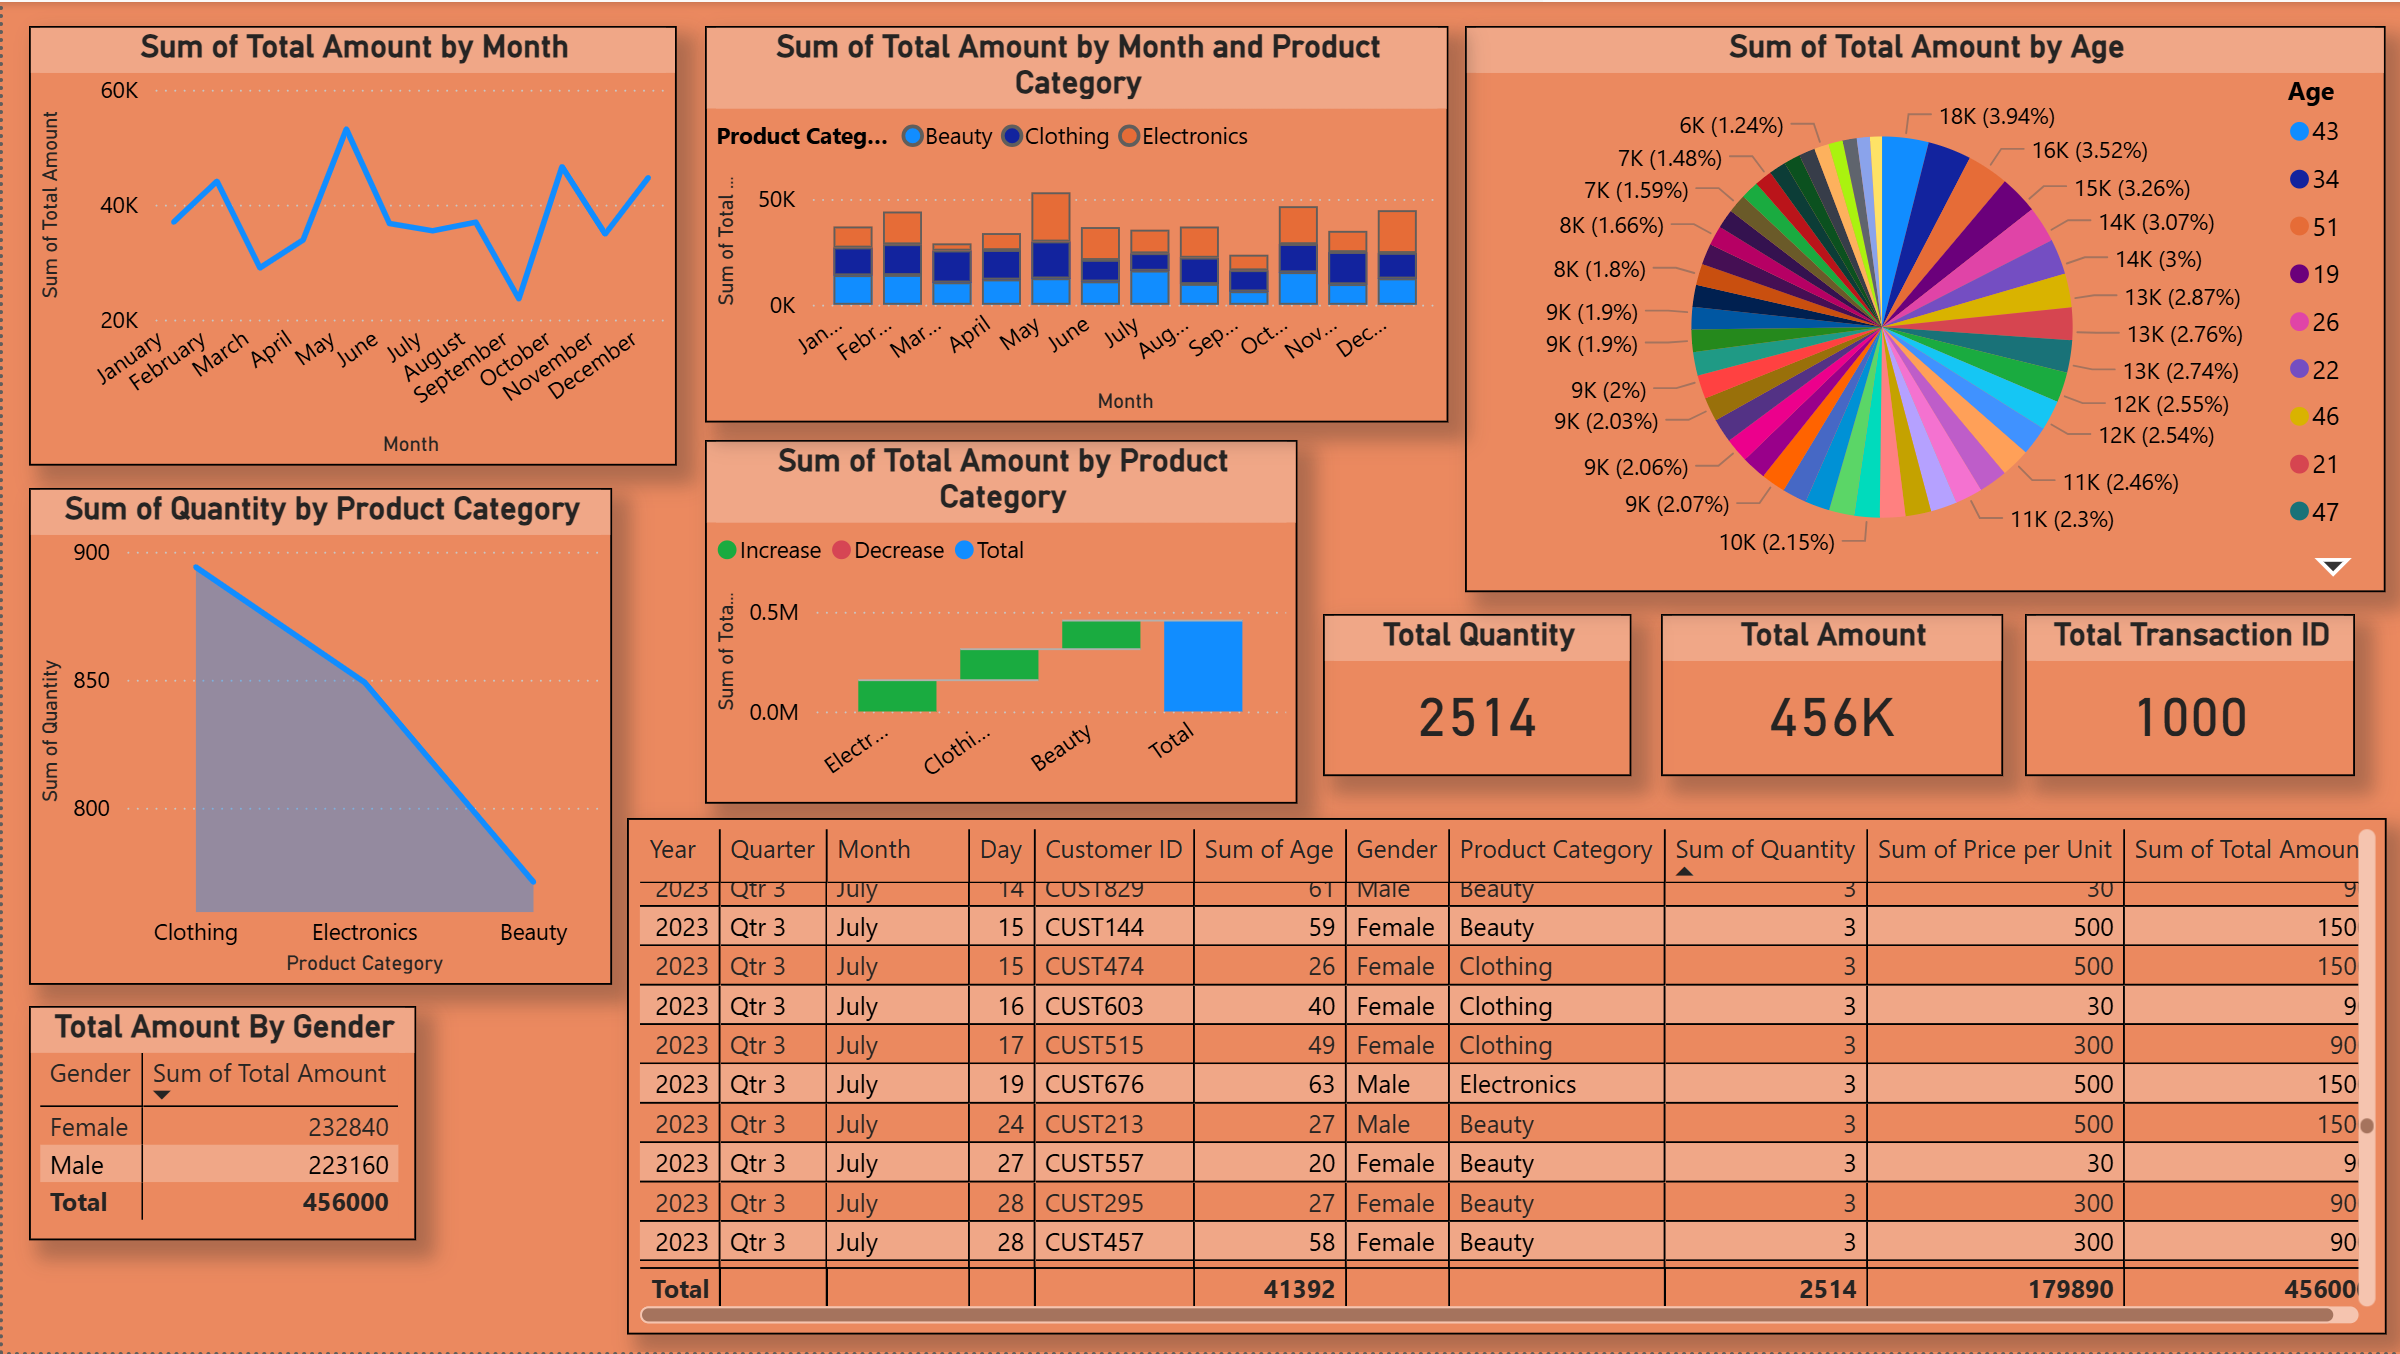

The page's visual inventory and layout, read from the dashboard file:
{"tool":"powerbi","page":{"name":"Page 1","canvas":[1280,720],"ordinal":0},"visuals":[{"type":"card","title":"Total Amount","fields":{"Values":["Sum(retail_sales_dataset.Total Amount)"]},"box":[884.8,326.4,182.3,86.7],"z":0},{"type":"card","title":"Total Quantity","fields":{"Values":["Sum(retail_sales_dataset.Quantity)"]},"box":[703.7,326.4,164.5,86.7],"z":1000},{"type":"card","title":"Total Transaction ID","fields":{"Values":["Count(retail_sales_dataset.Transaction ID)"]},"box":[1078.6,326.4,175.9,86.7],"z":2000},{"type":"lineChart","fields":{"Category":["retail_sales_dataset.Date.Variation.Date Hierarchy.Month"],"Y":["Sum(retail_sales_dataset.Total Amount)"]},"box":[14,12.7,345.5,234.6],"z":3000},{"type":"waterfallChart","fields":{"Category":["retail_sales_dataset.Product Category"],"Y":["Sum(retail_sales_dataset.Total Amount)"]},"box":[374.8,233.3,316.2,193.8],"z":4000},{"type":"areaChart","fields":{"Category":["retail_sales_dataset.Product Category"],"Y":["Sum(retail_sales_dataset.Quantity)"]},"box":[14,258.8,311.1,265.2],"z":5000},{"type":"pivotTable","title":"Total Amount By Gender","fields":{"Rows":["retail_sales_dataset.Gender"],"Values":["Sum(retail_sales_dataset.Total Amount)"]},"box":[14,535.5,210.4,128.8],"z":6000},{"type":"pieChart","fields":{"Category":["retail_sales_dataset.Age"],"Y":["Sum(retail_sales_dataset.Total Amount)"]},"box":[780.2,12.7,490.8,302.2],"z":7000},{"type":"tableEx","fields":{"Values":["retail_sales_dataset.Date.Variation.Date Hierarchy.Year","retail_sales_dataset.Date.Variation.Date Hierarchy.Quarter","retail_sales_dataset.Date.Variation.Date Hierarchy.Month","retail_sales_dataset.Date.Variation.Date Hierarchy.Day","retail_sales_dataset.Customer ID","Sum(retail_sales_dataset.Age)","retail_sales_dataset.Gender","retail_sales_dataset.Product Category","Sum(retail_sales_dataset.Quantity)","Sum(retail_sales_dataset.Price per Unit)","Sum(retail_sales_dataset.Total Amount)"]},"box":[332.7,434.7,938.3,275.4],"z":8000},{"type":"columnChart","fields":{"Category":["retail_sales_dataset.Date.Variation.Date Hierarchy.Month"],"Series":["retail_sales_dataset.Product Category"],"Y":["Sum(retail_sales_dataset.Total Amount)"]},"box":[374.8,12.7,396.5,211.6],"z":9000}]}

Visuals, with their boxes in screenshot pixels (x1, y1, x2, y2), scaled from the page's 1280x720 canvas onto the 2400x1354 screenshot:
"Total Amount" card: <box>1659,614,2001,777</box>
"Total Quantity" card: <box>1319,614,1628,777</box>
"Total Transaction ID" card: <box>2022,614,2352,777</box>
lineChart - retail_sales_dataset.Date.Variation.Date Hierarchy.Month x Sum(retail_sales_dataset.Total Amount): <box>26,24,674,465</box>
waterfallChart - retail_sales_dataset.Product Category x Sum(retail_sales_dataset.Total Amount): <box>703,439,1296,803</box>
areaChart - retail_sales_dataset.Product Category x Sum(retail_sales_dataset.Quantity): <box>26,487,610,985</box>
"Total Amount By Gender" pivotTable: <box>26,1007,421,1249</box>
pieChart - retail_sales_dataset.Age x Sum(retail_sales_dataset.Total Amount): <box>1463,24,2383,592</box>
tableEx - retail_sales_dataset.Date.Variation.Date Hierarchy.Year x retail_sales_dataset.Date.Variation.Date Hierarchy.Quarter: <box>624,817,2383,1335</box>
columnChart - retail_sales_dataset.Date.Variation.Date Hierarchy.Month x retail_sales_dataset.Product Category: <box>703,24,1446,422</box>
